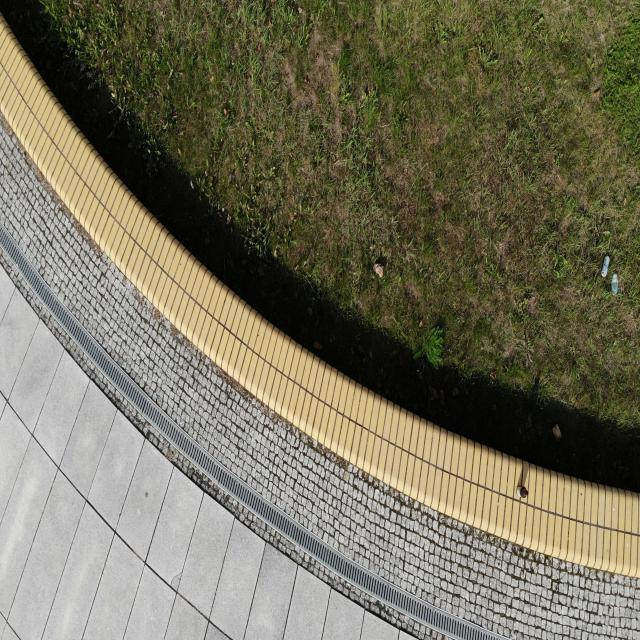rubbish: (551, 422, 565, 447), (373, 262, 384, 280), (601, 257, 610, 276), (517, 486, 529, 498), (611, 274, 618, 294)
